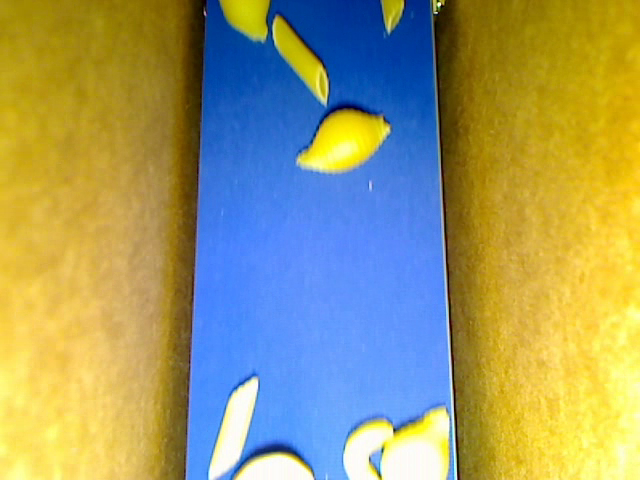elbow: (342, 416, 394, 478)
penne: (271, 14, 330, 106), (208, 374, 259, 479), (380, 1, 404, 37)
shell: (295, 109, 391, 175), (379, 404, 450, 478), (217, 1, 269, 44)
